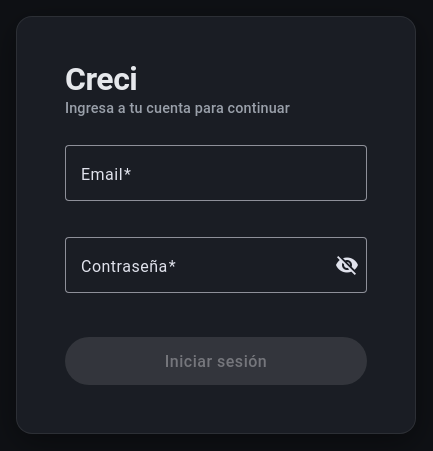
Test case: LoginComponent › Estado de carga › el botón debe deshabilitarse durante la carga
Type "user@example.com" into the field named "Dirección de email". click: [216, 173]
box: [81, 161, 351, 185]
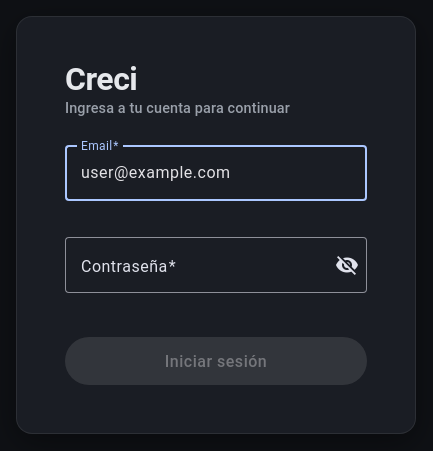
Type "password123" into the password field labelled "Contraseña". click: [202, 265]
box: [81, 253, 323, 277]
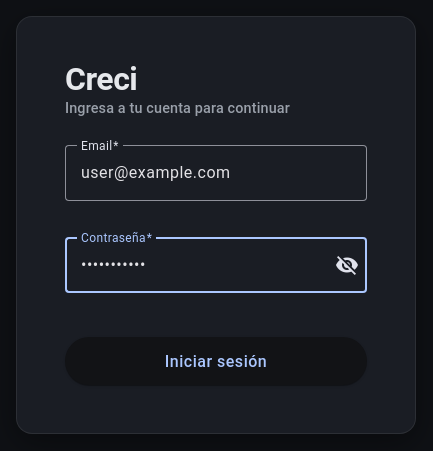
Click the button "Iniciar sesión". click: [216, 361]
box: [65, 337, 367, 385]
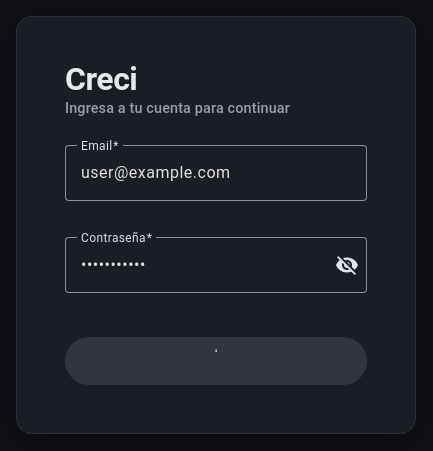
Expected: the button named "iniciar sesión" is disabled, [65, 337, 367, 385]
